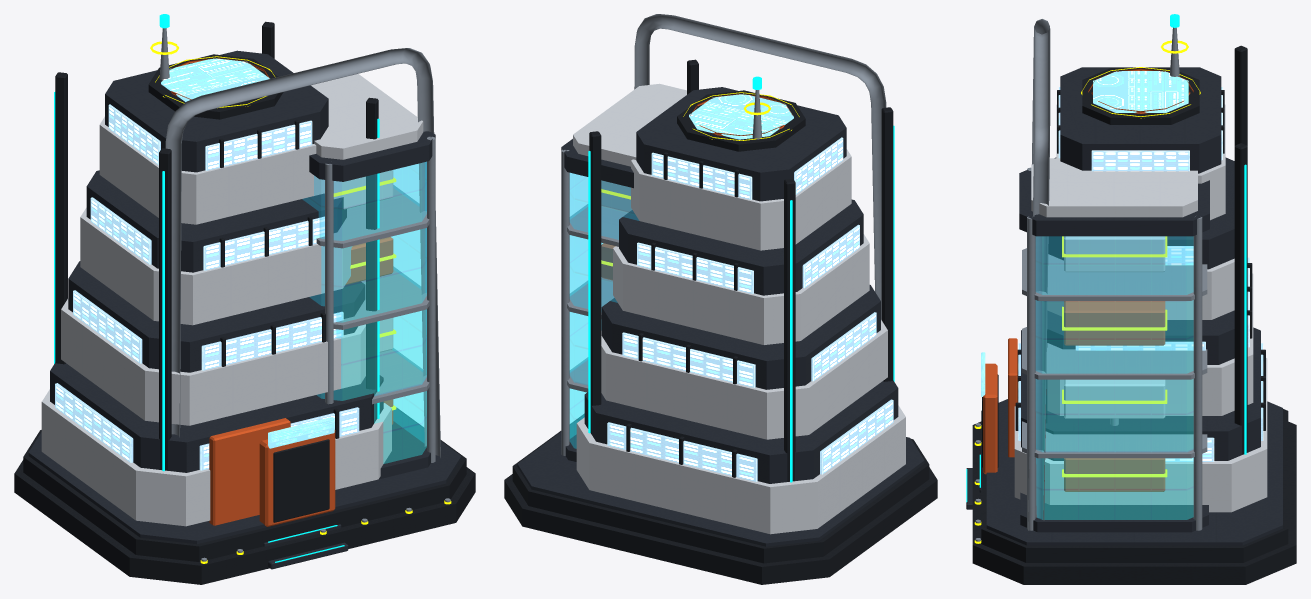
Rendered from bldg_13_r1_04.glb.
The picture shows the model from 3 angles, left to right: view 1: azimuth 30°, elevation 25°; view 2: azimuth 150°, elevation 25°; view 3: azimuth 270°, elevation 25°; orthographic projection. The views are drawn at different scales.
Visible parts, largest first — view 1: Bldg13_C04_aero_white, Bldg13_C04_carbon_slate, Bldg13_C04_gunmetal, Bldg13_C04_steel_machined, Bldg13_C04_glass_cyan, Bldg13_C04_window_lit, Bldg13_C04_accent_orange, Bldg13_C04_marquee, Bldg13_C04_led_cyan, Bldg13_C04_led_amber; view 2: Bldg13_C04_aero_white, Bldg13_C04_carbon_slate, Bldg13_C04_gunmetal, Bldg13_C04_window_lit, Bldg13_C04_steel_machined, Bldg13_C04_glass_cyan, Bldg13_C04_marquee, Bldg13_C04_led_cyan, Bldg13_C04_accent_orange, Bldg13_C04_led_amber; view 3: Bldg13_C04_glass_cyan, Bldg13_C04_carbon_slate, Bldg13_C04_aero_white, Bldg13_C04_steel_machined, Bldg13_C04_gunmetal, Bldg13_C04_accent_orange, Bldg13_C04_window_lit, Bldg13_C04_marquee, Bldg13_C04_led_amber, Bldg13_C04_led_cyan.
Part boxes in pixels (x1,y1,x2,y2): Bldg13_C04_aero_white: [41, 74, 423, 526]; Bldg13_C04_carbon_slate: [28, 50, 461, 569]; Bldg13_C04_gunmetal: [14, 21, 475, 584]; Bldg13_C04_steel_machined: [159, 28, 450, 561]; Bldg13_C04_glass_cyan: [302, 161, 426, 463]; Bldg13_C04_window_lit: [55, 104, 359, 470]; Bldg13_C04_accent_orange: [162, 58, 393, 526]; Bldg13_C04_marquee: [161, 58, 334, 448]; Bldg13_C04_led_cyan: [54, 14, 379, 562]; Bldg13_C04_led_amber: [150, 41, 451, 563]; Bldg13_C04_aero_white: [573, 83, 905, 534]; Bldg13_C04_carbon_slate: [517, 87, 924, 546]; Bldg13_C04_gunmetal: [504, 59, 937, 584]; Bldg13_C04_window_lit: [607, 137, 893, 481]; Bldg13_C04_steel_machined: [561, 14, 886, 455]; Bldg13_C04_glass_cyan: [569, 173, 638, 448]; Bldg13_C04_marquee: [689, 93, 793, 139]; Bldg13_C04_led_cyan: [588, 76, 894, 482]; Bldg13_C04_accent_orange: [601, 93, 792, 280]; Bldg13_C04_led_amber: [601, 92, 799, 266]; Bldg13_C04_glass_cyan: [1036, 236, 1193, 519]; Bldg13_C04_carbon_slate: [966, 67, 1282, 545]; Bldg13_C04_aero_white: [1014, 104, 1267, 512]; Bldg13_C04_steel_machined: [975, 19, 1207, 541]; Bldg13_C04_gunmetal: [972, 45, 1296, 584]; Bldg13_C04_accent_orange: [983, 68, 1193, 491]; Bldg13_C04_window_lit: [1018, 87, 1263, 461]; Bldg13_C04_marquee: [981, 71, 1188, 396]; Bldg13_C04_led_amber: [974, 40, 1200, 543]; Bldg13_C04_led_cyan: [966, 14, 1246, 502].
Size of the model in its own units: 12.5 by 16.42 by 10.71.
Materials: 10 (10 with a texture image).
